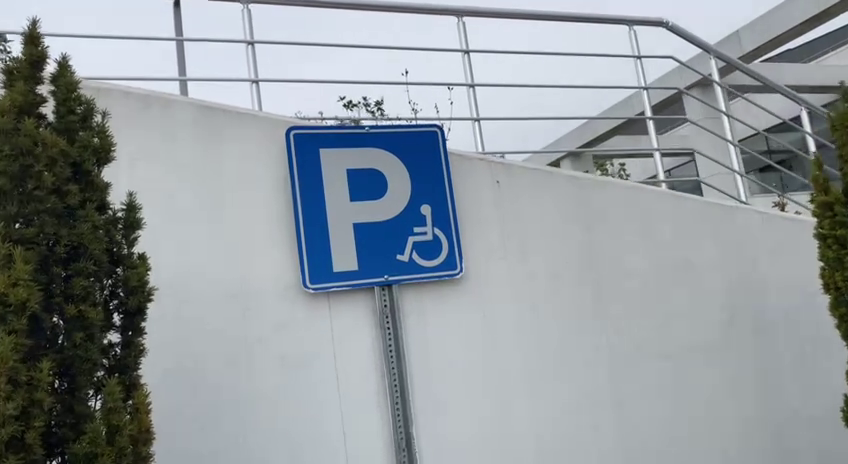parking: (283, 121, 464, 294)
